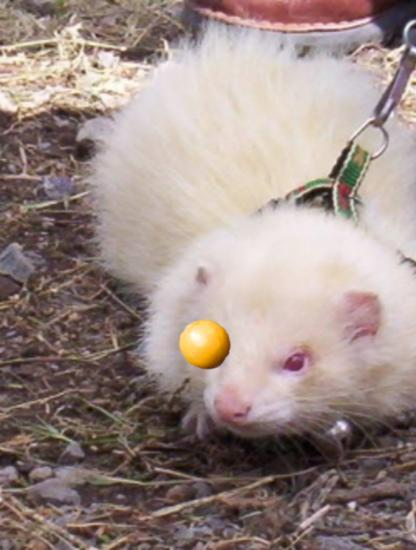Grapefruit: (179, 318, 231, 370)
